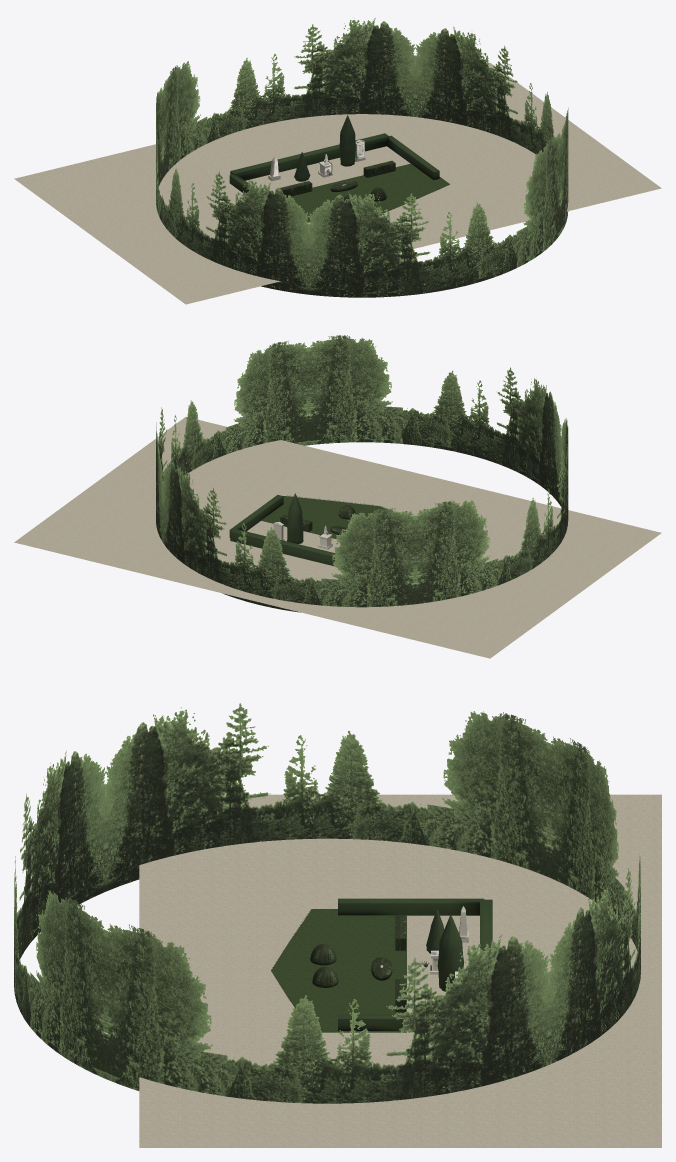
The model's file is lamarr-vienna-central-cemetery.glb.
The picture shows the model from 3 angles, top to bottom: view 1: azimuth 30°, elevation 25°; view 2: azimuth 150°, elevation 25°; view 3: azimuth 270°, elevation 25°; orthographic projection. The views are drawn at different scales.
Parts seen in each view (by area): view 1: backdrop_trees, paths, artifact_lawn, hedge_back, hedge_side_r, thuja_r; view 2: backdrop_trees, paths, artifact_lawn, hedge_back, thuja_r, hedge_side_r; view 3: backdrop_trees, paths, artifact_lawn, hedge_side_l, thuja_r, hedge_side_r.
Boxes of the visible parts, x1,y1,x2,y2 form: backdrop_trees: (156, 18, 568, 297); paths: (14, 62, 661, 304); artifact_lawn: (287, 163, 449, 222); hedge_back: (230, 133, 389, 180); hedge_side_r: (387, 135, 439, 179); thuja_r: (339, 115, 355, 166); backdrop_trees: (156, 335, 568, 612); paths: (14, 417, 661, 658); artifact_lawn: (261, 496, 393, 539); hedge_back: (230, 528, 335, 566); thuja_r: (287, 493, 303, 543); hedge_side_r: (229, 495, 283, 537); backdrop_trees: (14, 703, 640, 1103); paths: (139, 794, 661, 1147); artifact_lawn: (271, 909, 406, 1032); hedge_side_l: (338, 898, 484, 915); thuja_r: (437, 914, 463, 991); hedge_side_r: (338, 1014, 411, 1031).
Size of what is drawn, in the model's own units: 80 by 17.5 by 62.
Materials: 9 (8 with a texture image).
